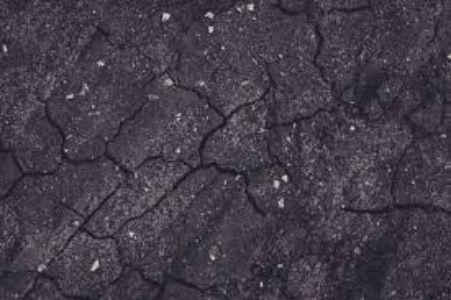alligator-crack: (14, 39, 418, 294)
